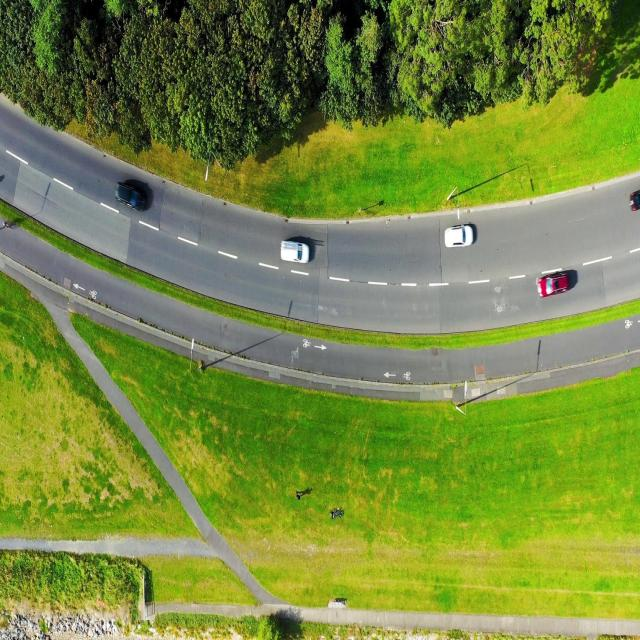Car: (526, 262, 593, 311), (108, 162, 158, 218), (441, 214, 492, 261), (272, 228, 316, 272), (620, 174, 640, 231)
